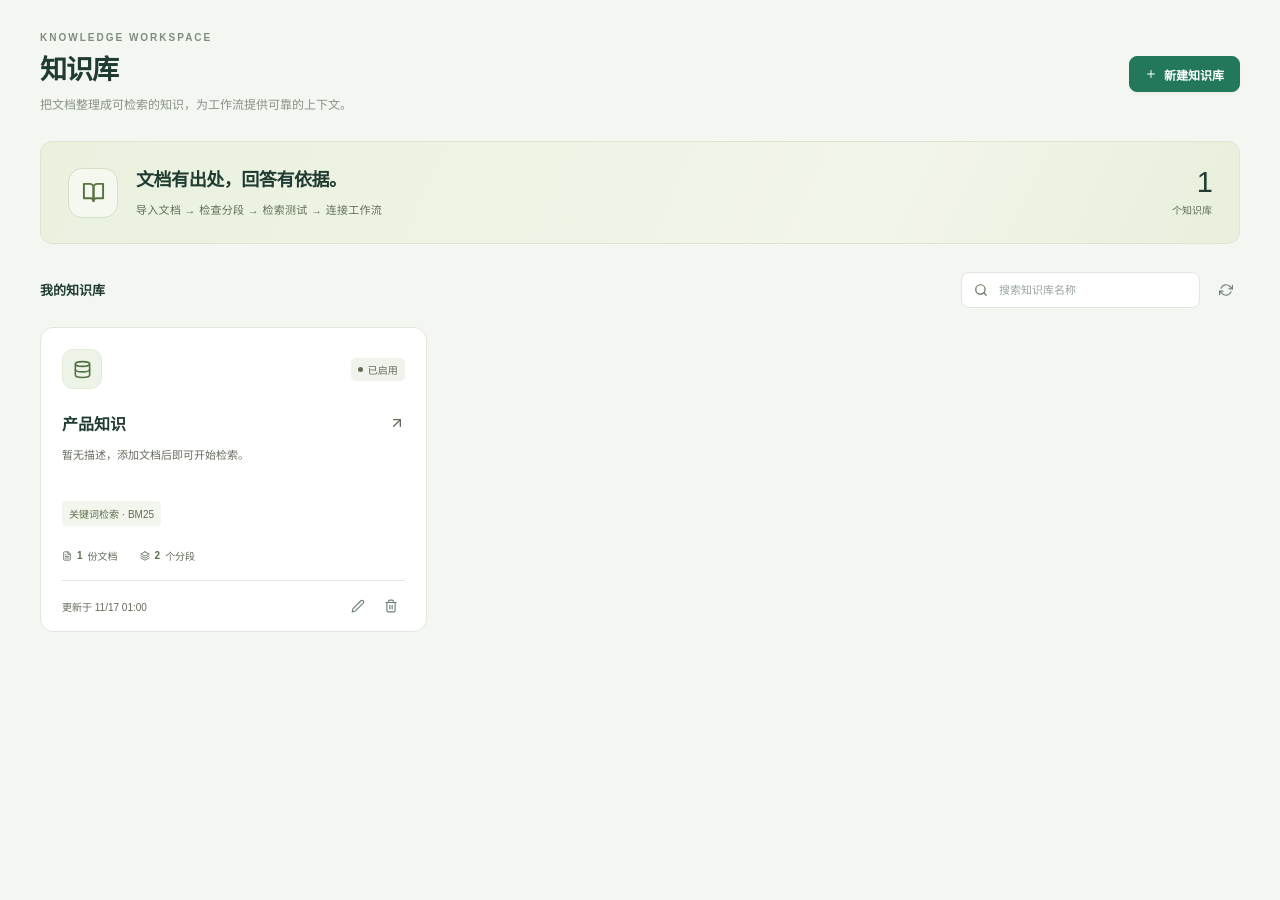
Test case: 删除知识库失败保留记录，展示真实失败原因
Expected: the link "产品知识" is shown, [62,412,405,436]
Step 1. Click the button named "删除 产品知识" → (391,606), box [377,592,405,620]
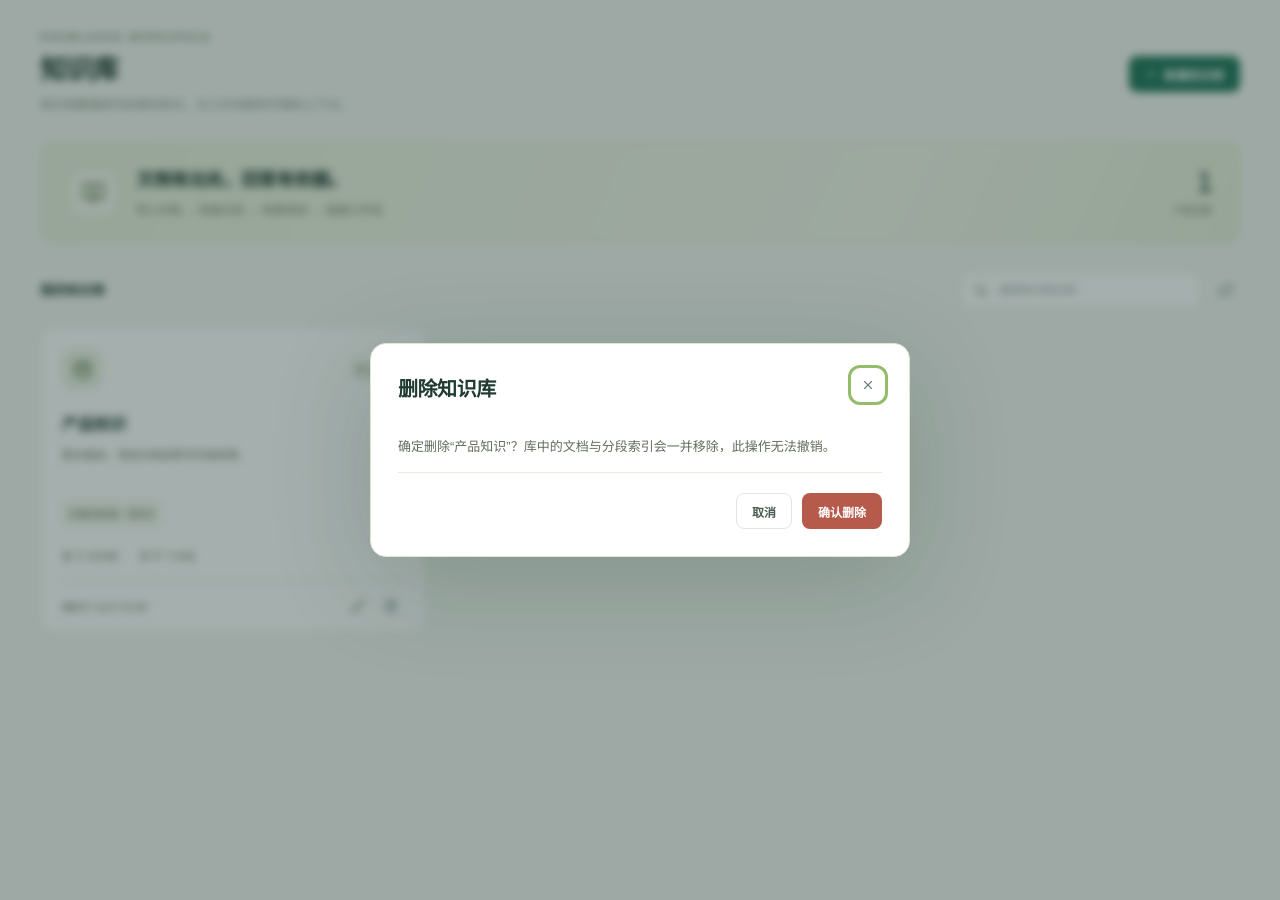
Step 2. Click the button "确认删除" → (842,511), box [802,493,882,529]
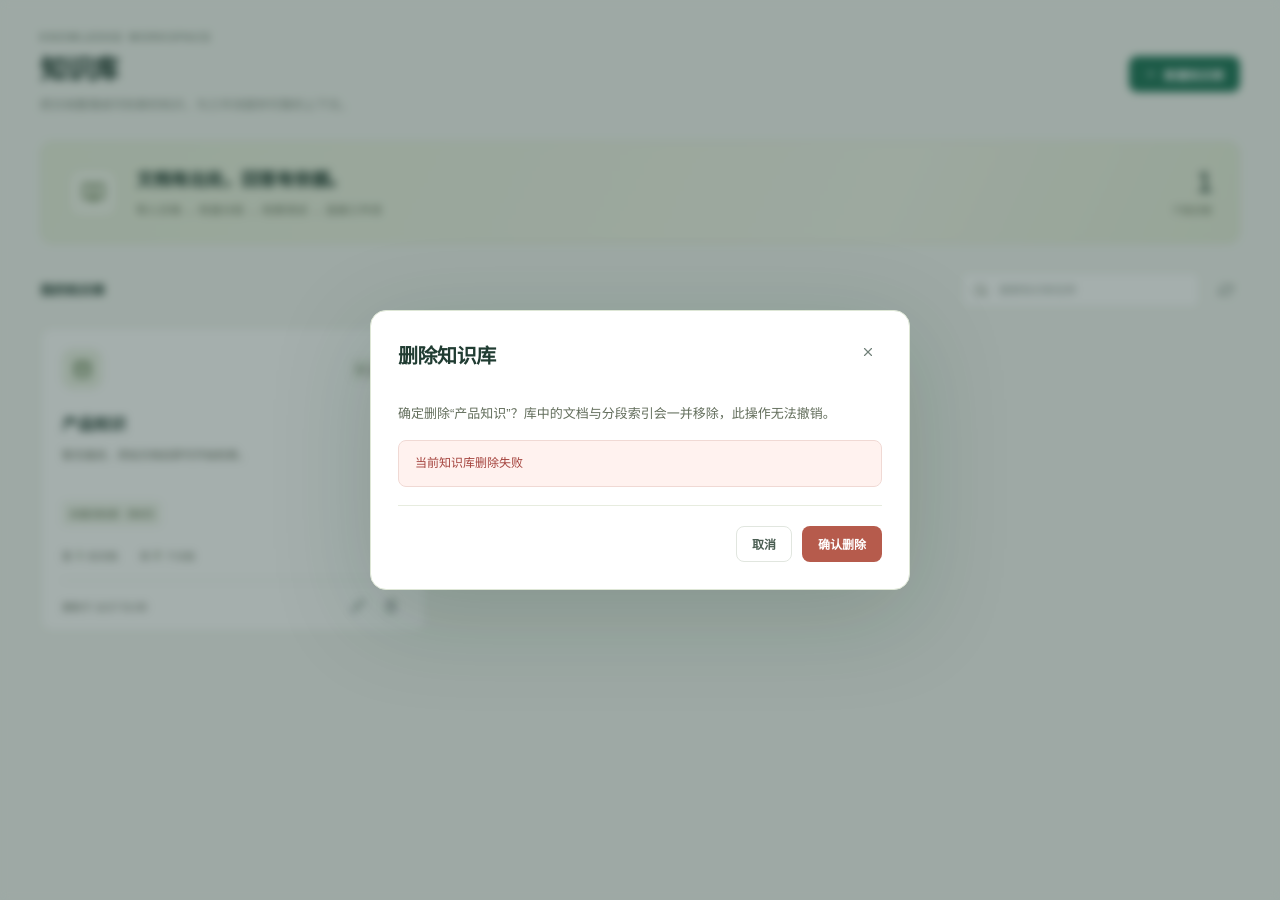
Expected: the link "产品知识" is shown, [62,412,405,436]
Expected: the message reads "当前知识库删除失败", [415,456,523,470]
